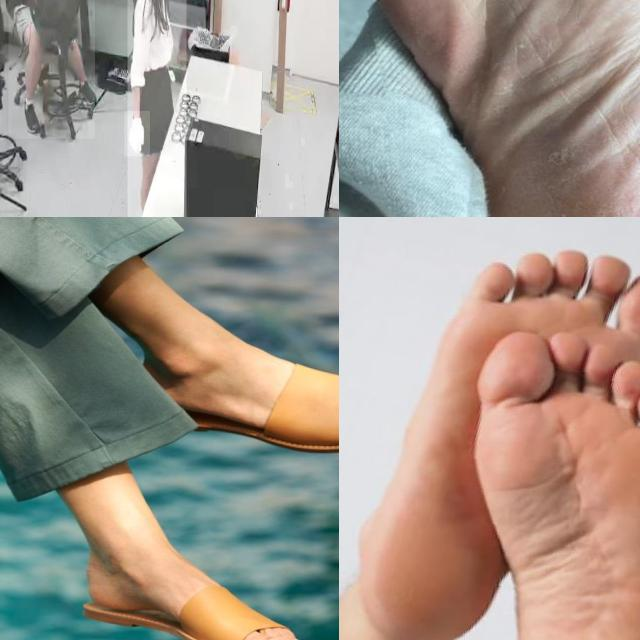Barefoots: (353, 240, 640, 640), (339, 0, 640, 217), (463, 334, 640, 640)
Sandals: (134, 339, 339, 454), (83, 543, 312, 640)
hand_glove: (124, 111, 150, 157)
person: (127, 0, 186, 217), (8, 0, 95, 139)
shoes: (74, 74, 100, 110), (22, 95, 42, 139)
